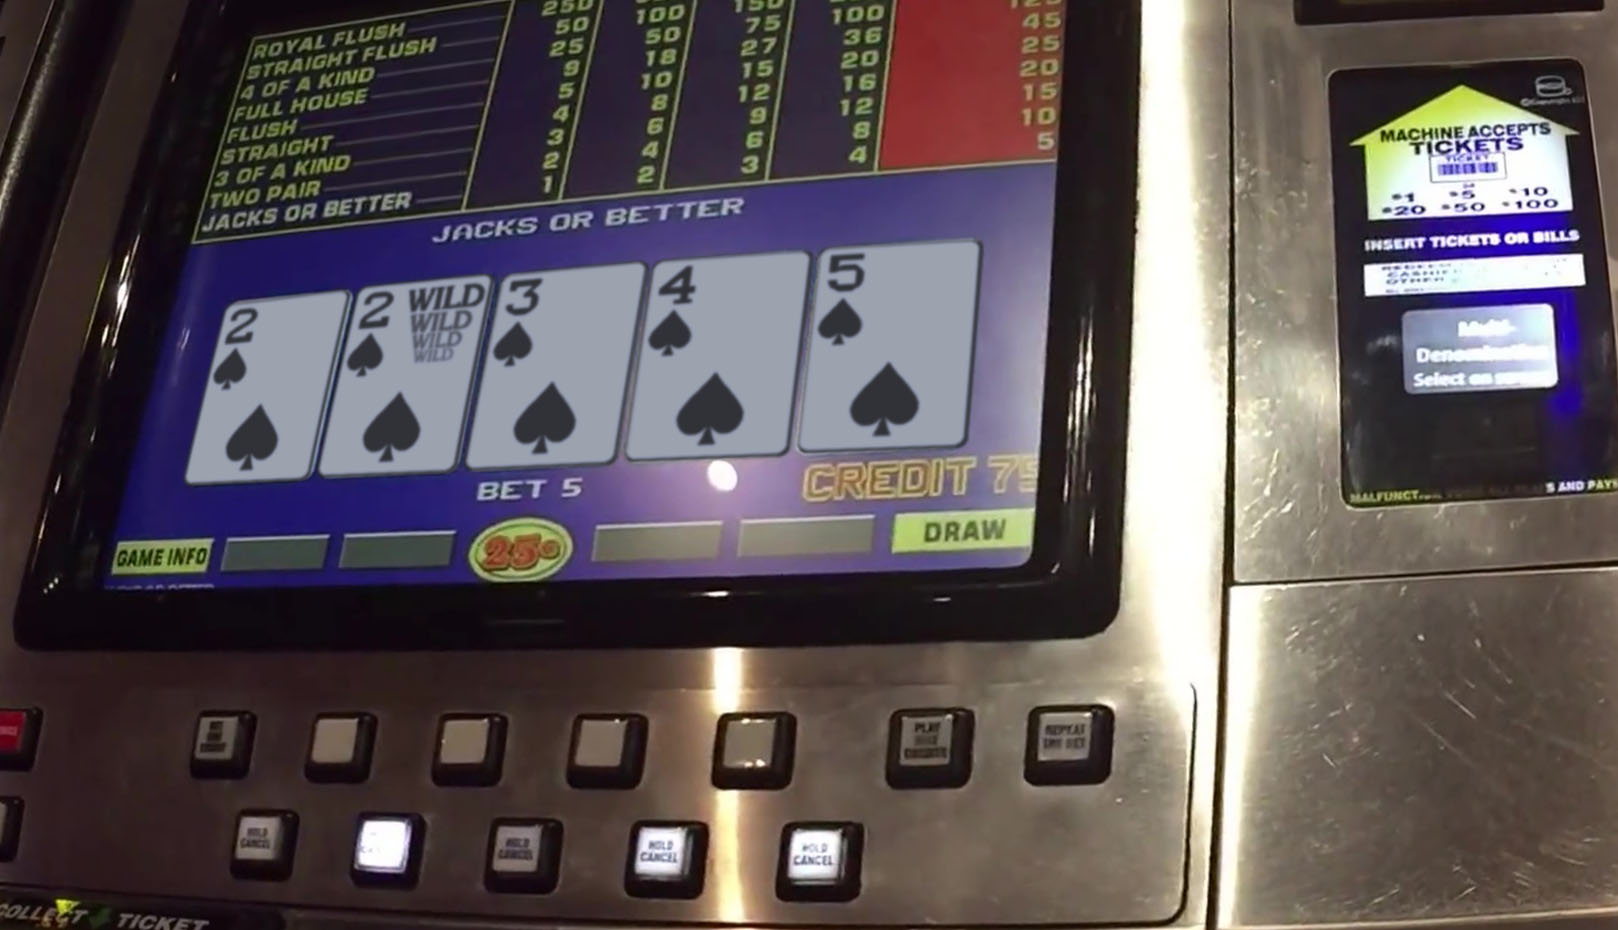S2: (214, 296, 334, 477)
S2W: (344, 280, 477, 471)
S3: (485, 268, 635, 464)
S4: (645, 256, 792, 460)
S5: (821, 248, 965, 444)
